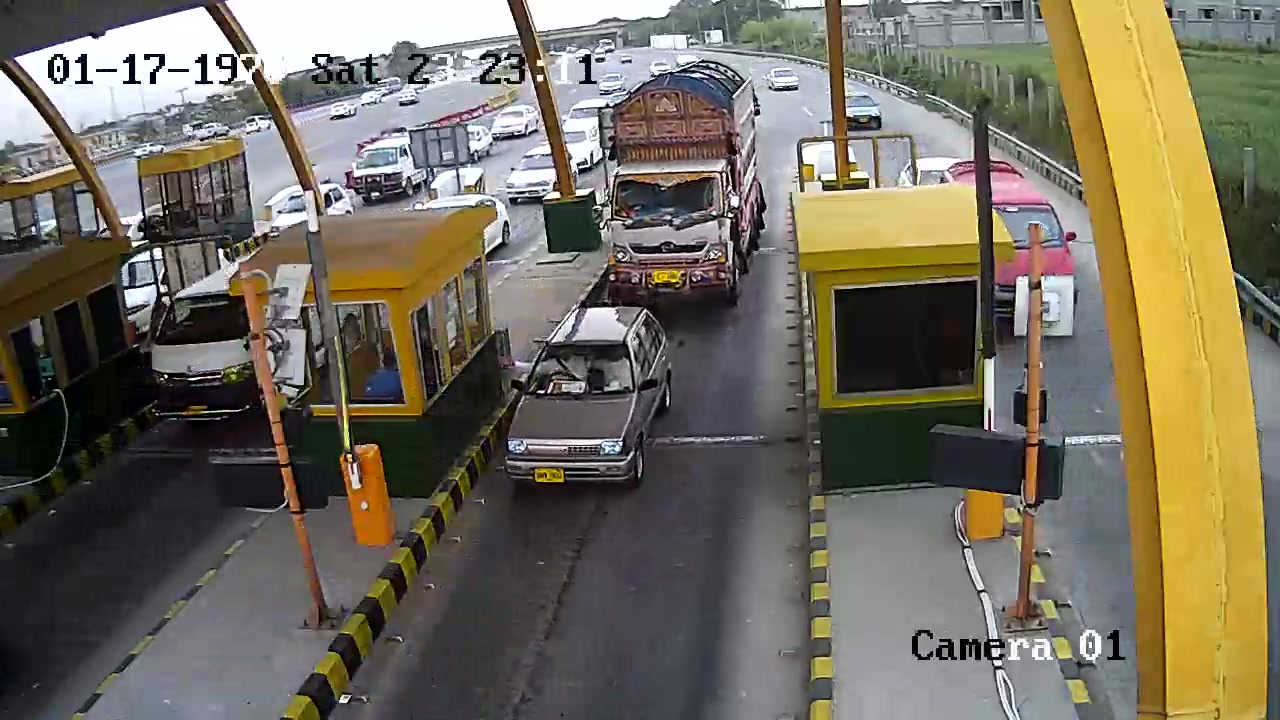F5: (591, 62, 765, 304)
